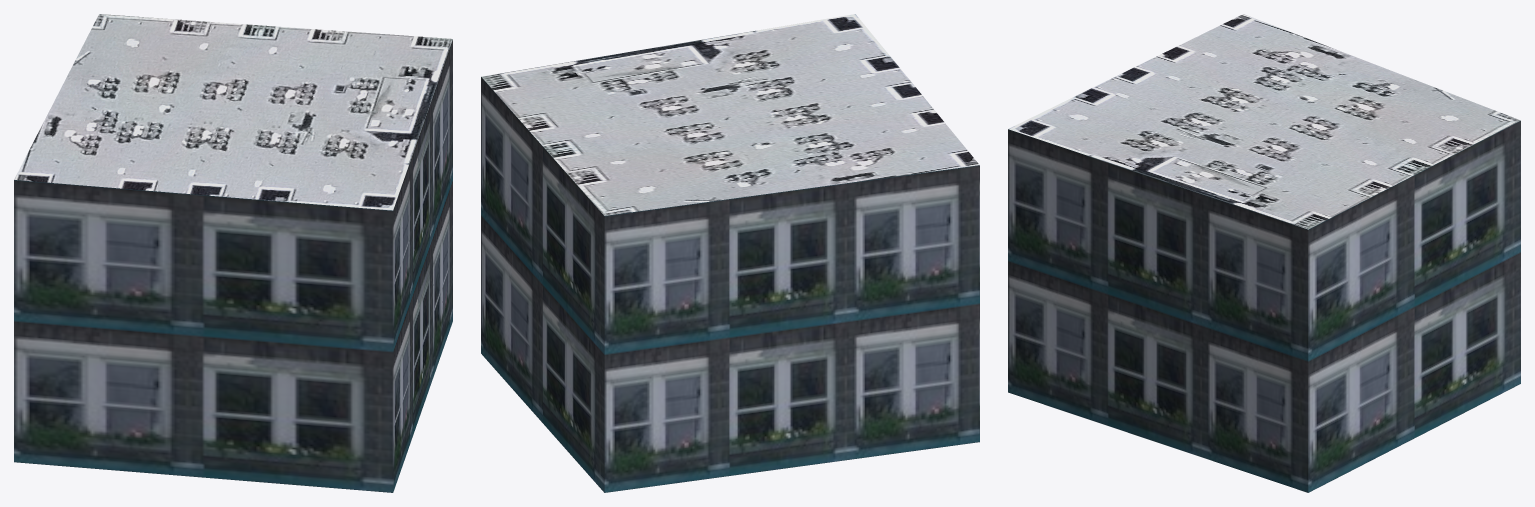
Rendered from ResTex__1921.fbx.
The picture shows the model from 3 angles, left to right: view 1: azimuth 30°, elevation 25°; view 2: azimuth 150°, elevation 25°; view 3: azimuth 270°, elevation 25°; orthographic projection. The views are drawn at different scales.
Parts seen in each view (by area): view 1: CityEngineMaterial_11_m, CityEngineMaterial_8_m; view 2: CityEngineMaterial_11_m, CityEngineMaterial_8_m; view 3: CityEngineMaterial_11_m, CityEngineMaterial_8_m.
Part boxes in pixels (x1,y1,x2,y2): CityEngineMaterial_11_m: [14, 39, 452, 492]; CityEngineMaterial_8_m: [14, 14, 452, 210]; CityEngineMaterial_11_m: [481, 77, 979, 492]; CityEngineMaterial_8_m: [481, 14, 979, 215]; CityEngineMaterial_11_m: [1008, 120, 1520, 492]; CityEngineMaterial_8_m: [1008, 14, 1520, 229].
Size of the model in its own units: 10.53 by 6 by 10.59.
Materials: 2 (2 with a texture image).
